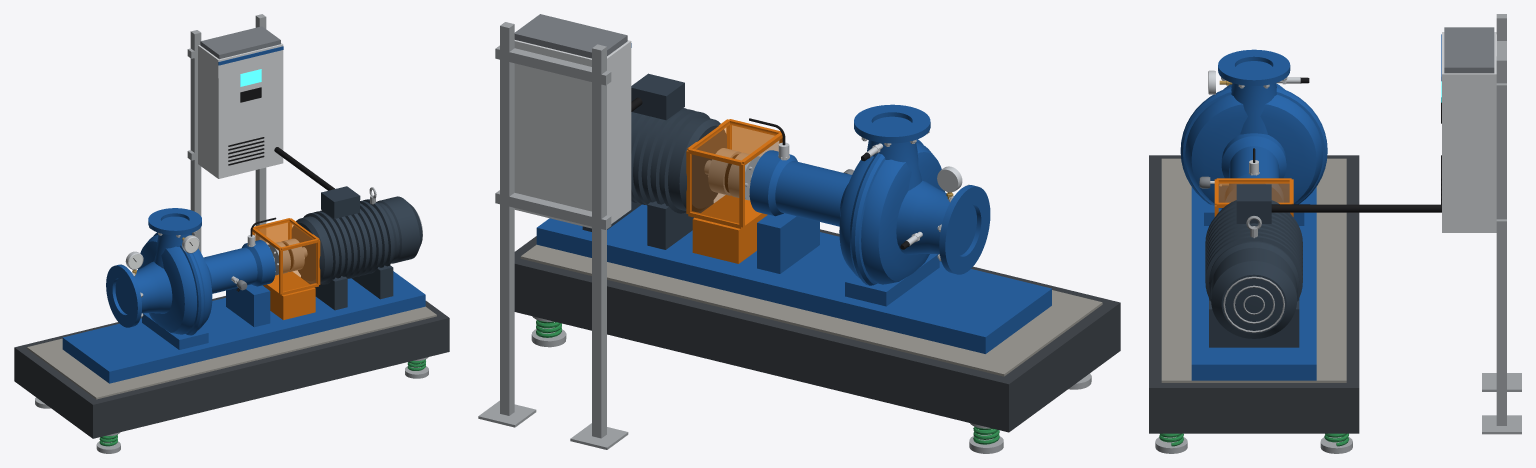
Rendered from pump-chwp.glb.
3 renders of one model, left to right at view 1: azimuth 30°, elevation 25°; view 2: azimuth 150°, elevation 25°; view 3: azimuth 270°, elevation 25°, orthographic. The views are drawn at different scales.
Parts seen in each view (by area): view 1: CHWP_InertiaBase, CHWP_VFD, CHWP_Motor, CHWP_Casing, CHWP_CouplingGuard, CHWP_BearingFrame, CHWP_Coupling; view 2: CHWP_InertiaBase, CHWP_VFD, CHWP_Casing, CHWP_Motor, CHWP_CouplingGuard, CHWP_BearingFrame, CHWP_Coupling; view 3: CHWP_InertiaBase, CHWP_VFD, CHWP_Motor, CHWP_Casing, CHWP_BearingFrame, CHWP_CouplingGuard.
Part boxes in pixels (<box>): CHWP_InertiaBase: <box>14,271,449,453</box>; CHWP_VFD: <box>187,14,334,252</box>; CHWP_Motor: <box>291,186,422,310</box>; CHWP_Casing: <box>106,208,212,349</box>; CHWP_CouplingGuard: <box>252,218,320,319</box>; CHWP_BearingFrame: <box>203,240,275,327</box>; CHWP_Coupling: <box>268,238,307,275</box>; CHWP_InertiaBase: <box>514,204,1120,453</box>; CHWP_VFD: <box>478,14,642,449</box>; CHWP_Casing: <box>839,104,990,306</box>; CHWP_Motor: <box>582,73,726,249</box>; CHWP_CouplingGuard: <box>686,119,782,263</box>; CHWP_BearingFrame: <box>749,150,851,273</box>; CHWP_Coupling: <box>704,148,760,200</box>; CHWP_InertiaBase: <box>1149,155,1359,453</box>; CHWP_VFD: <box>1271,14,1521,434</box>; CHWP_Motor: <box>1205,184,1302,347</box>; CHWP_Casing: <box>1180,49,1327,225</box>; CHWP_BearingFrame: <box>1221,133,1286,202</box>; CHWP_CouplingGuard: <box>1214,178,1293,216</box>.
Bounding box in the file's own units: 2.21 × 1.62 × 1.49.
